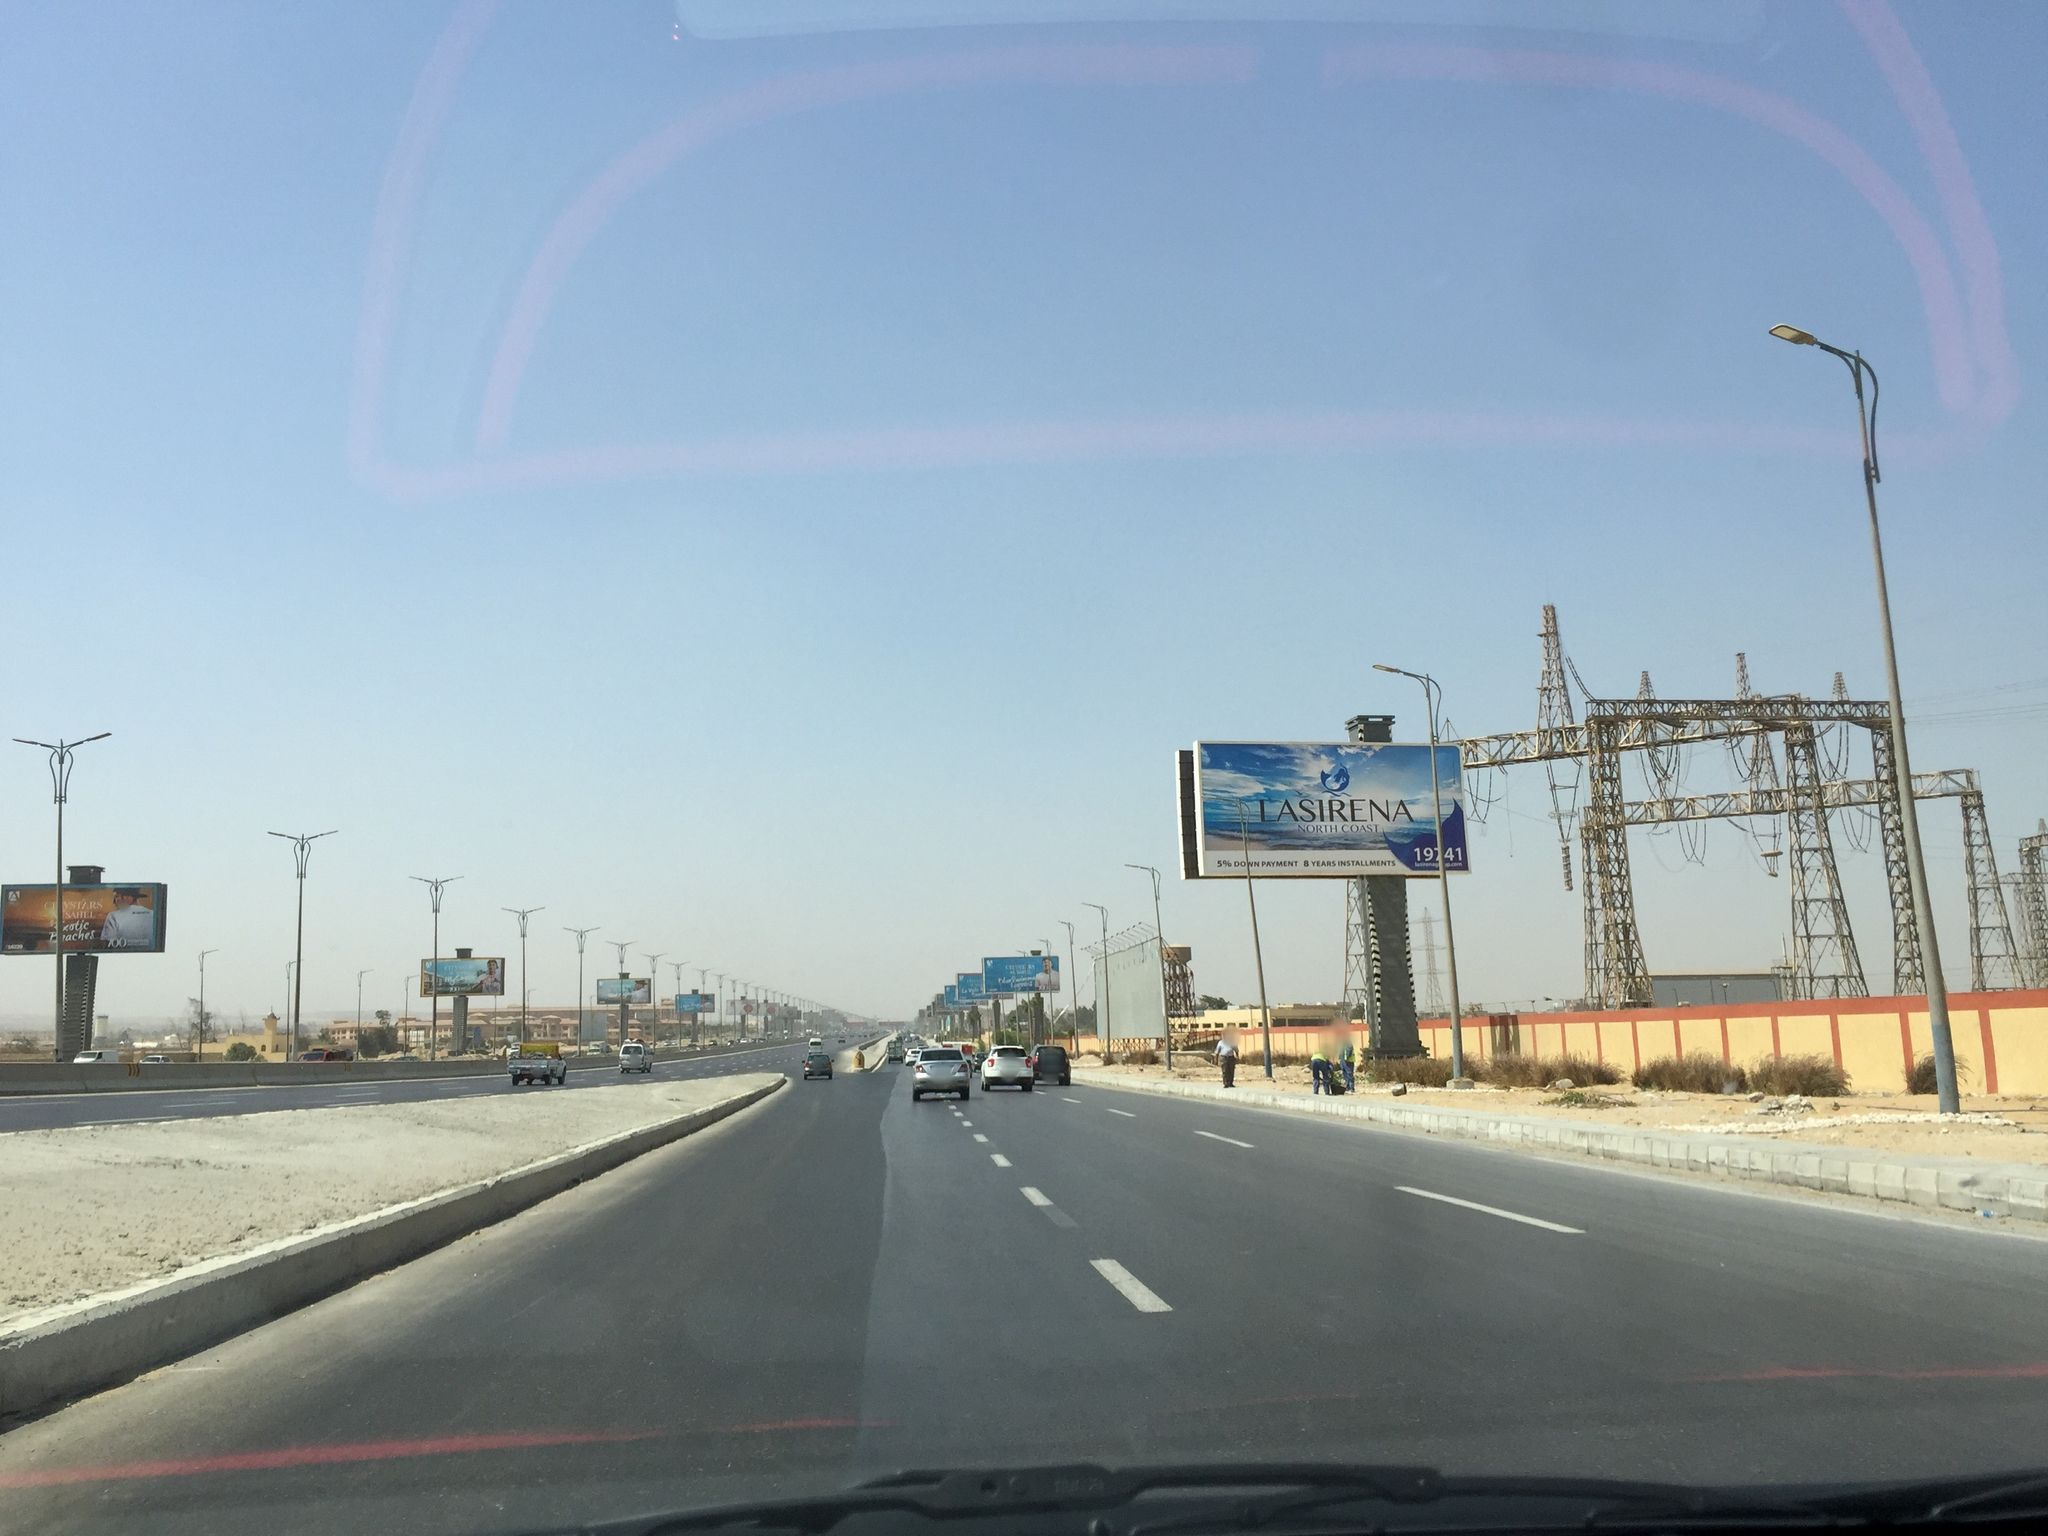car: (908, 1046, 968, 1100), (979, 1046, 1034, 1092), (1027, 1044, 1071, 1086), (618, 1037, 653, 1071), (800, 1054, 834, 1079), (905, 1049, 922, 1065), (806, 1037, 822, 1054)
truck: (506, 1042, 568, 1086)
